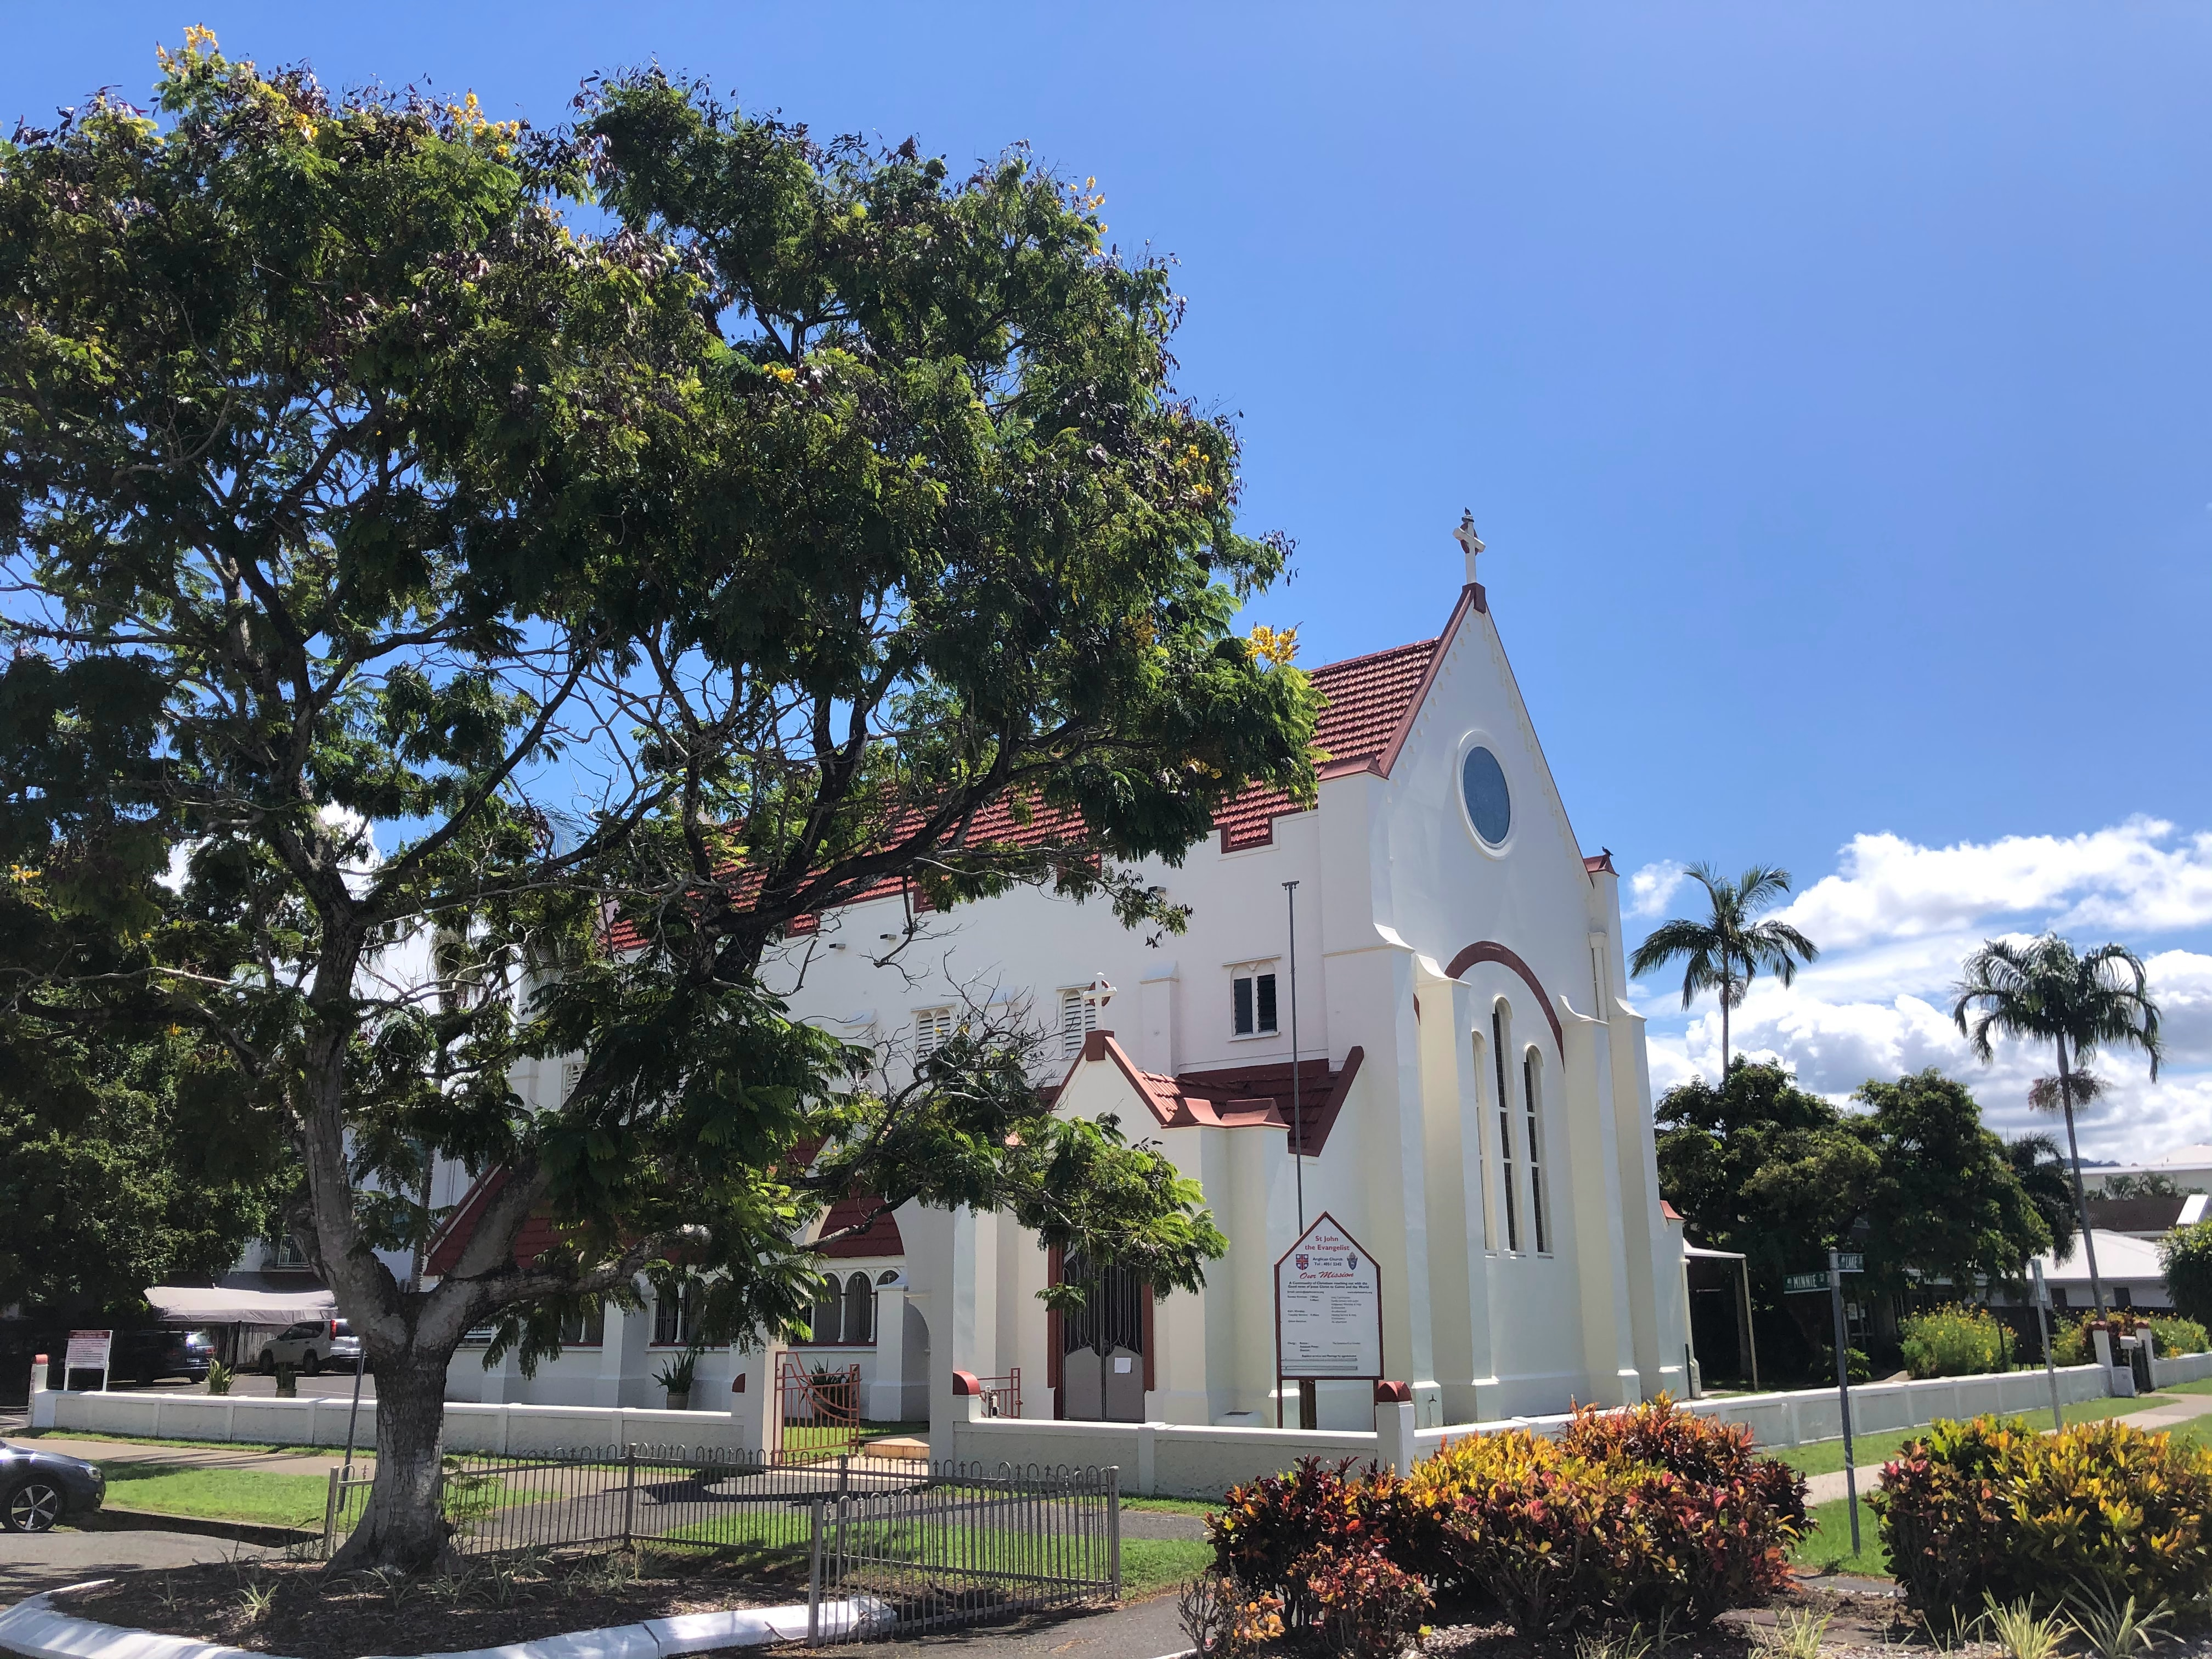tree: (0, 23, 1338, 1574)
